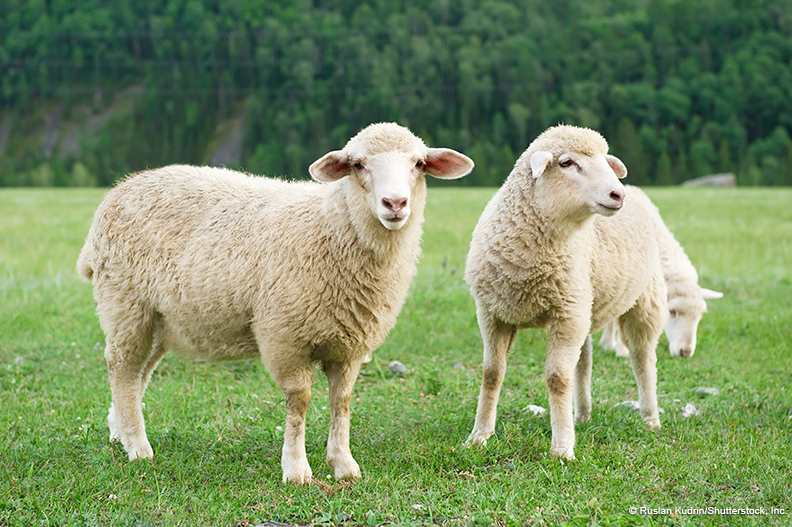sheep: (70, 116, 472, 489), (472, 117, 685, 464)
